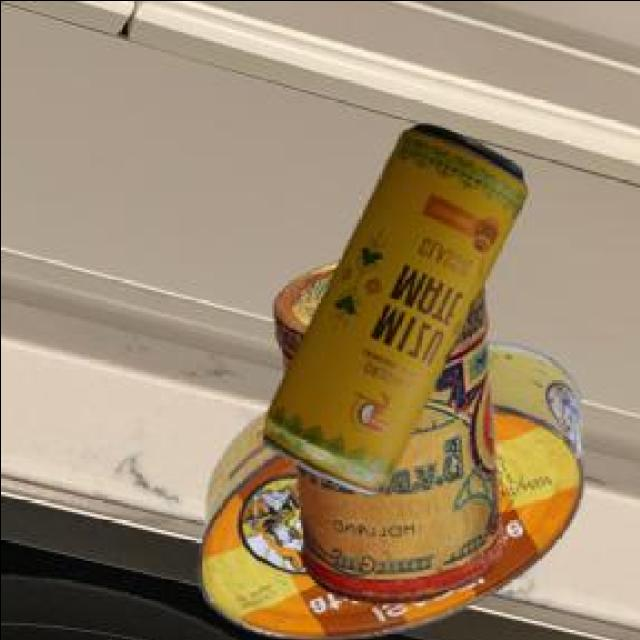logam: (194, 346, 577, 640), (259, 128, 523, 497), (270, 266, 499, 606)
